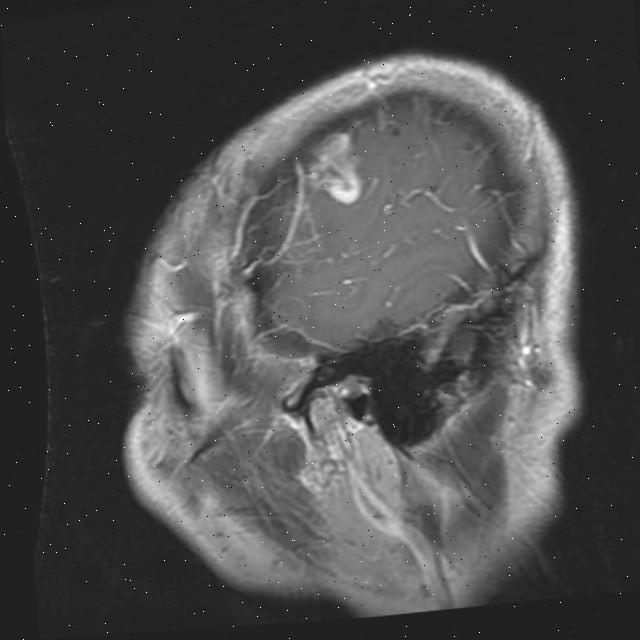Glioma: (300, 125, 363, 208)
